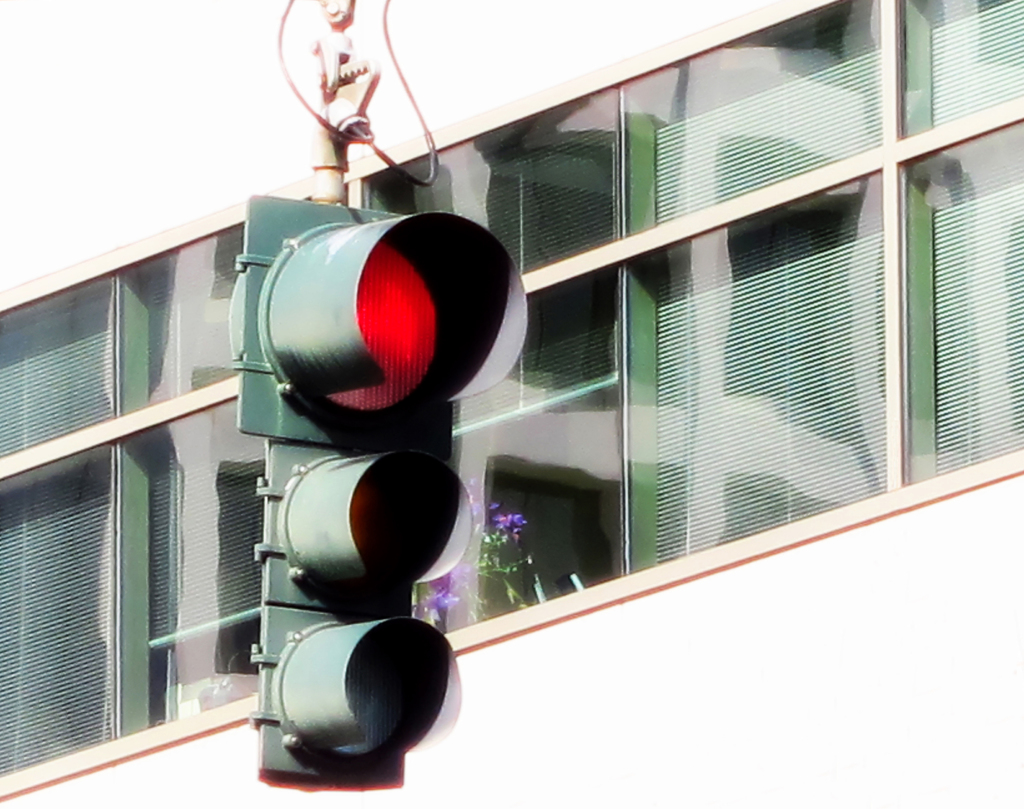red_light: (266, 207, 478, 787)
